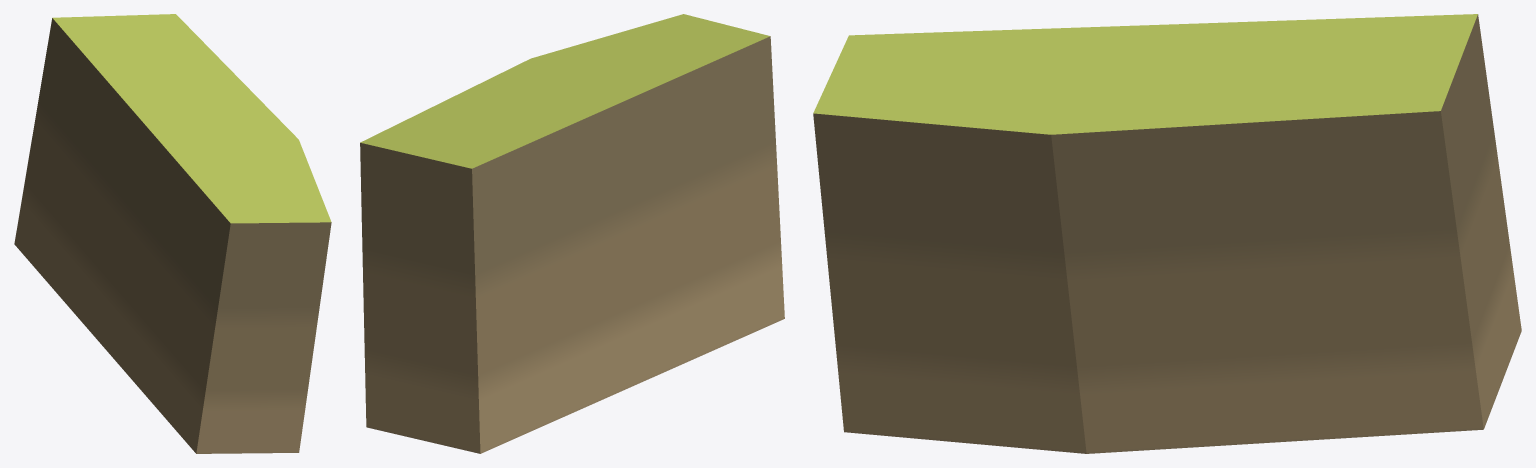
File: 0655_Togo.glb
3 renders of one model, left to right at view 1: azimuth 30°, elevation 25°; view 2: azimuth 150°, elevation 25°; view 3: azimuth 270°, elevation 25°, orthographic. The views are drawn at different scales.
Parts seen in each view (by area): view 1: part_0; view 2: part_0; view 3: part_0.
Part boxes in pixels (bbox=[...]): part_0: bbox=[14, 14, 331, 453]; part_0: bbox=[360, 14, 784, 453]; part_0: bbox=[813, 14, 1521, 453].
Bounding box in the file's own units: 0.1561 × 0.2378 × 0.3815.
Materials: 1 (1 with a texture image).
